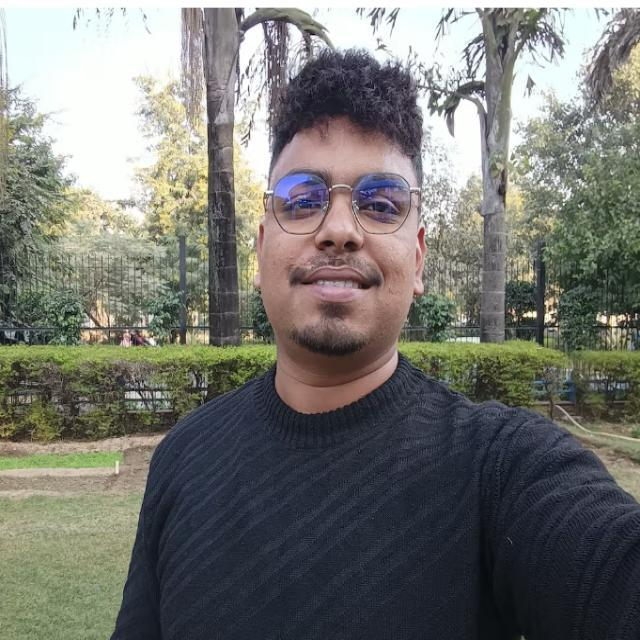face_no_mask: (256, 121, 426, 360)
